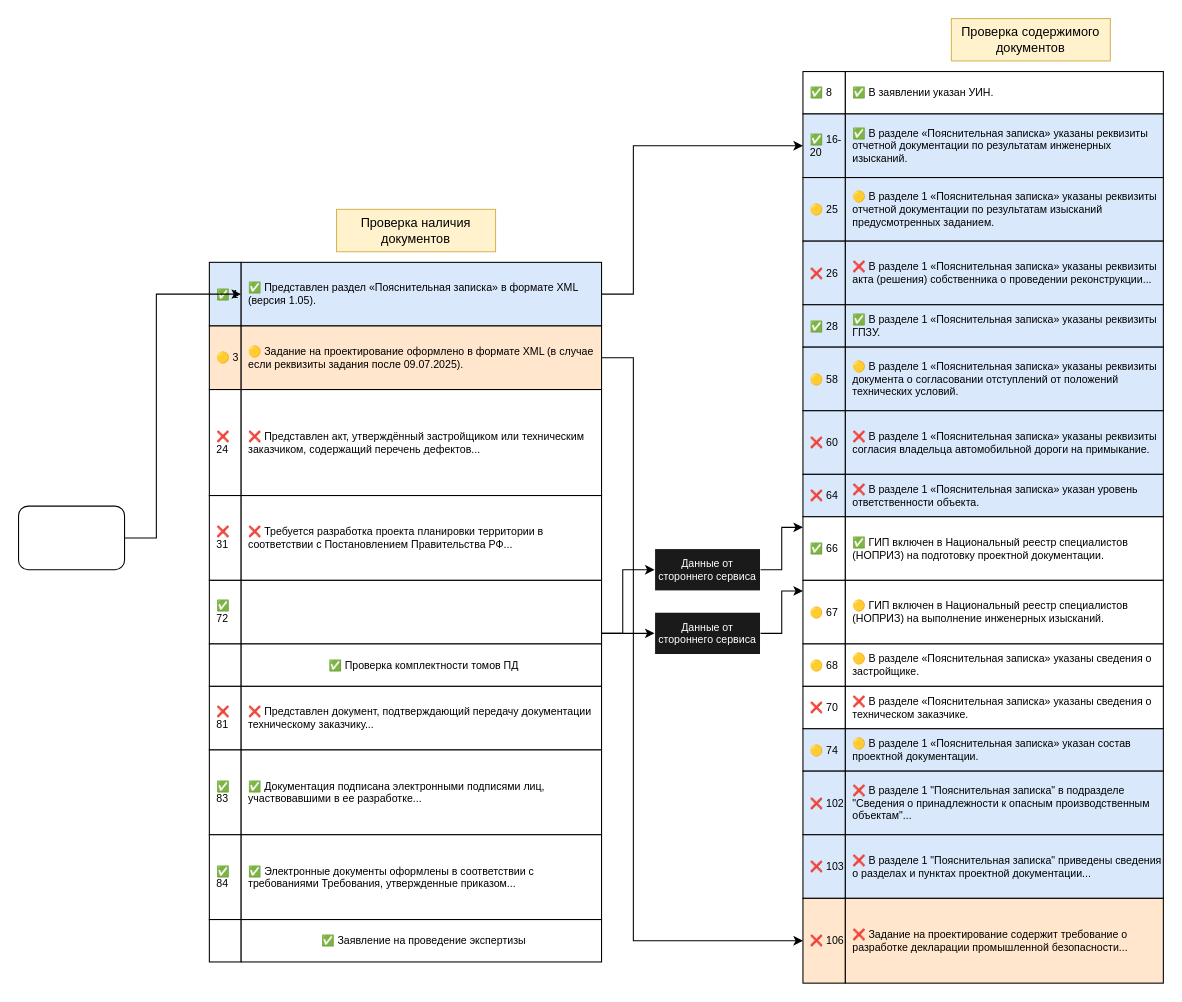
This 1182x1002 diagram has some shape labels left out. Here are the shapes that lost their labels. From the top down, the centre of each, then its label:
At [71,537]: "🟡 Входящие документы".
At [421,611]: "✅ Представлен документ, подтверждающий полномочия заявителя.".
